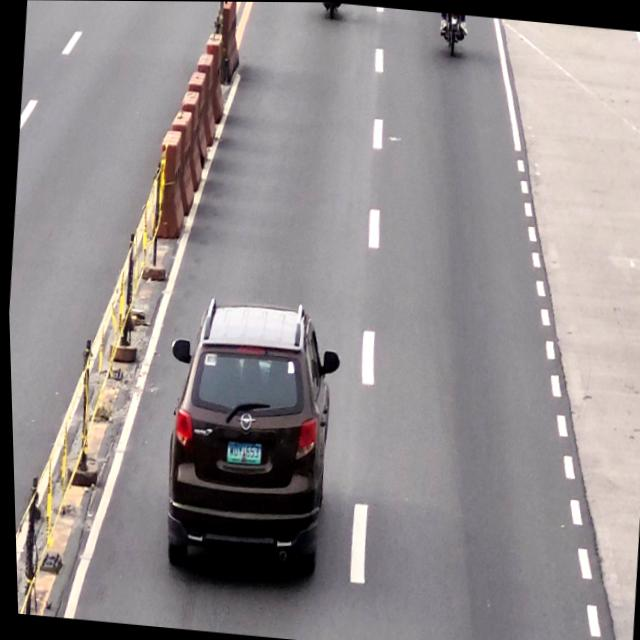Car: (157, 301, 336, 567)
License-Plate: (222, 436, 259, 468)
